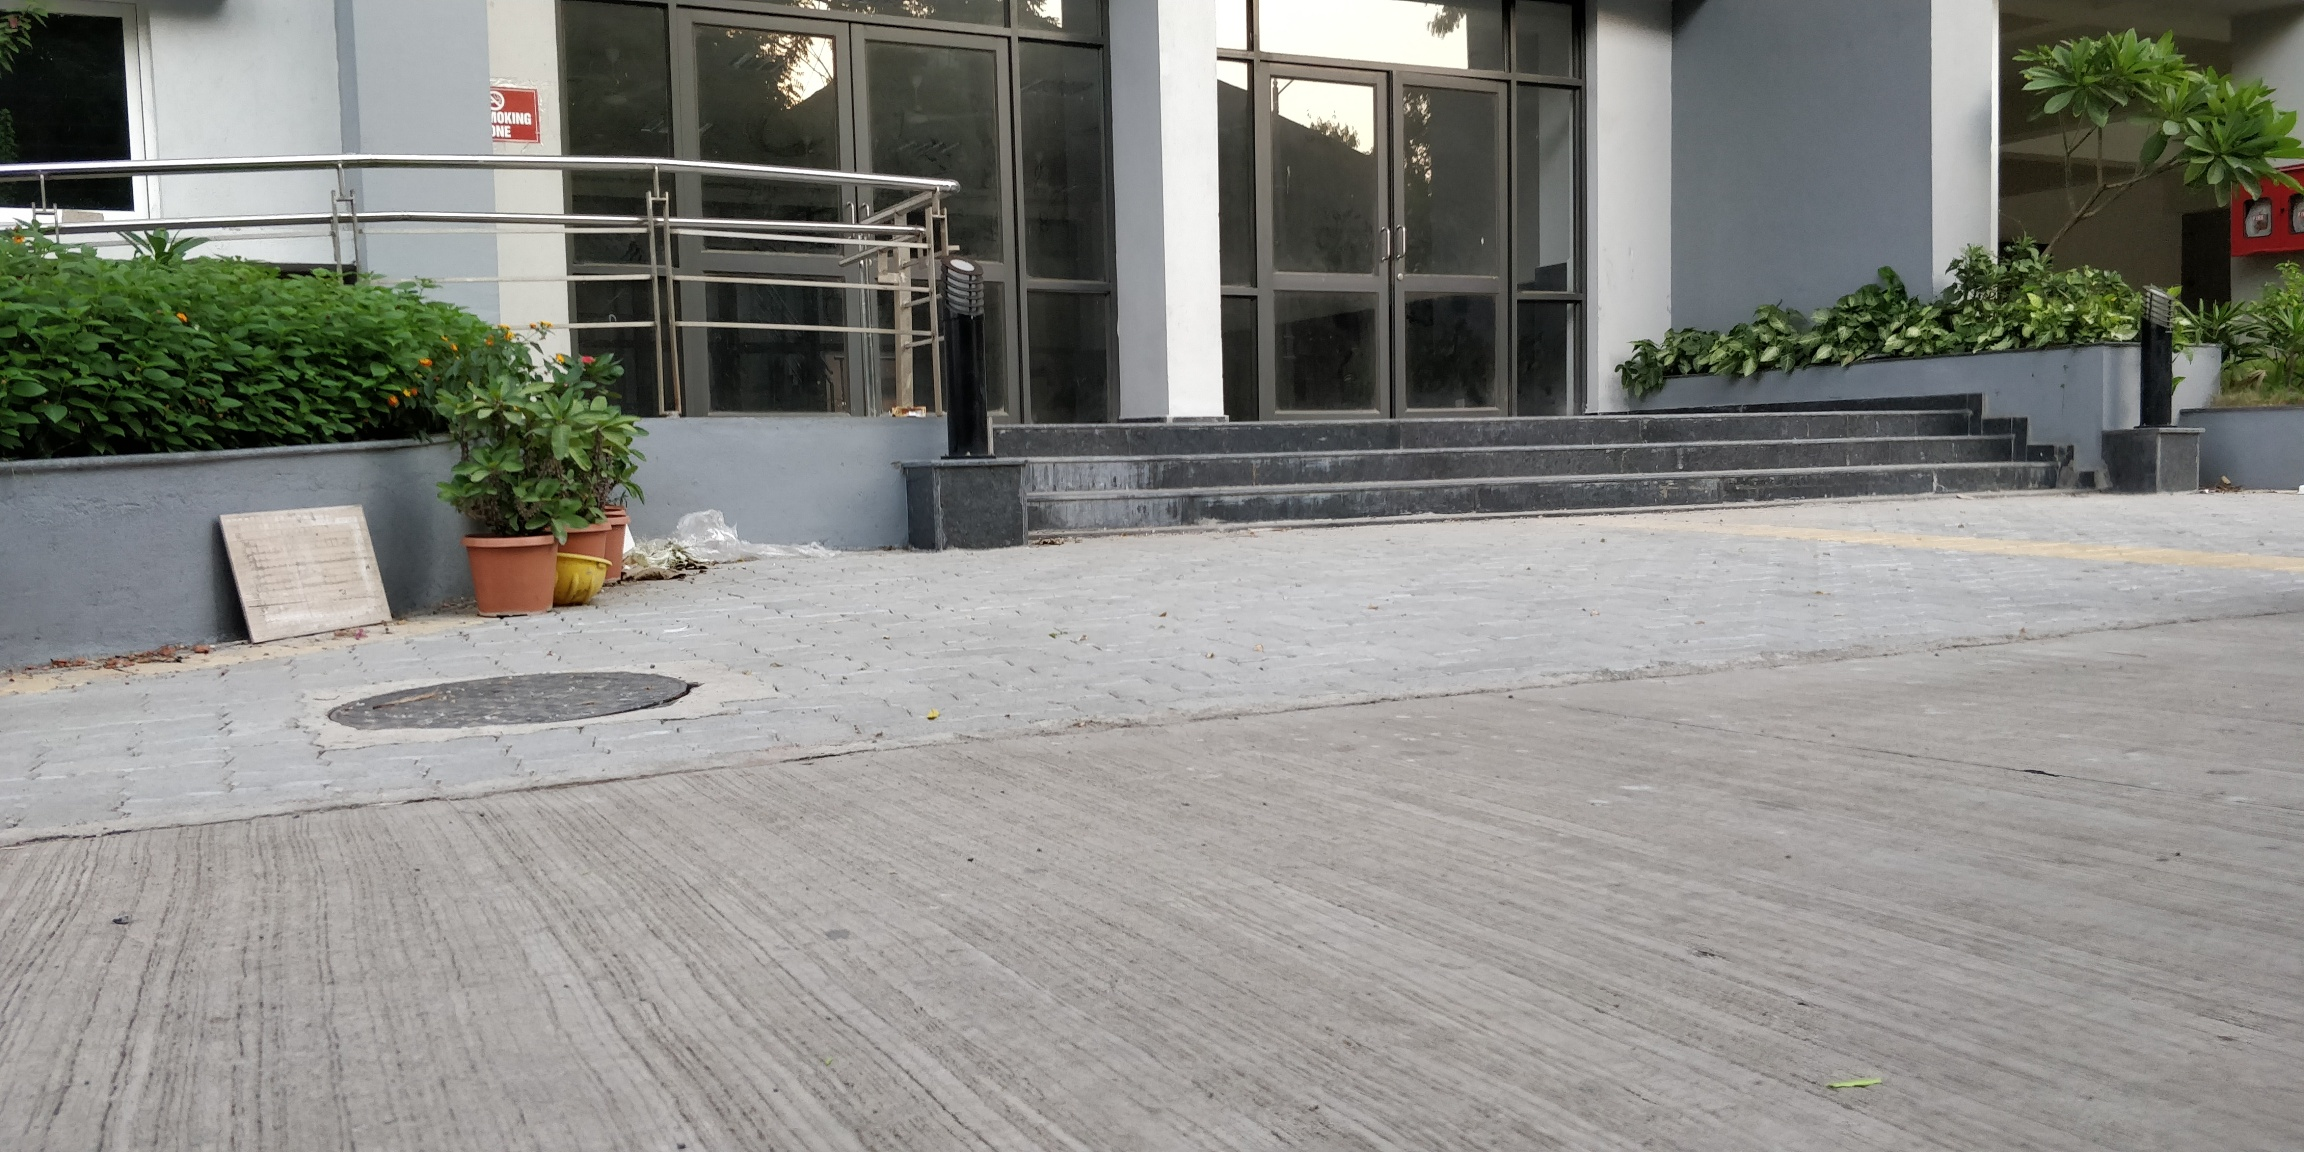stairs_up: (1009, 416, 2079, 522)
